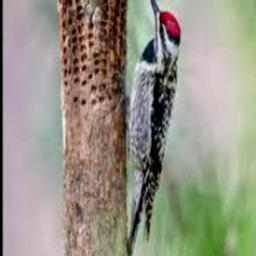Woodpecker: (124, 0, 179, 256)
